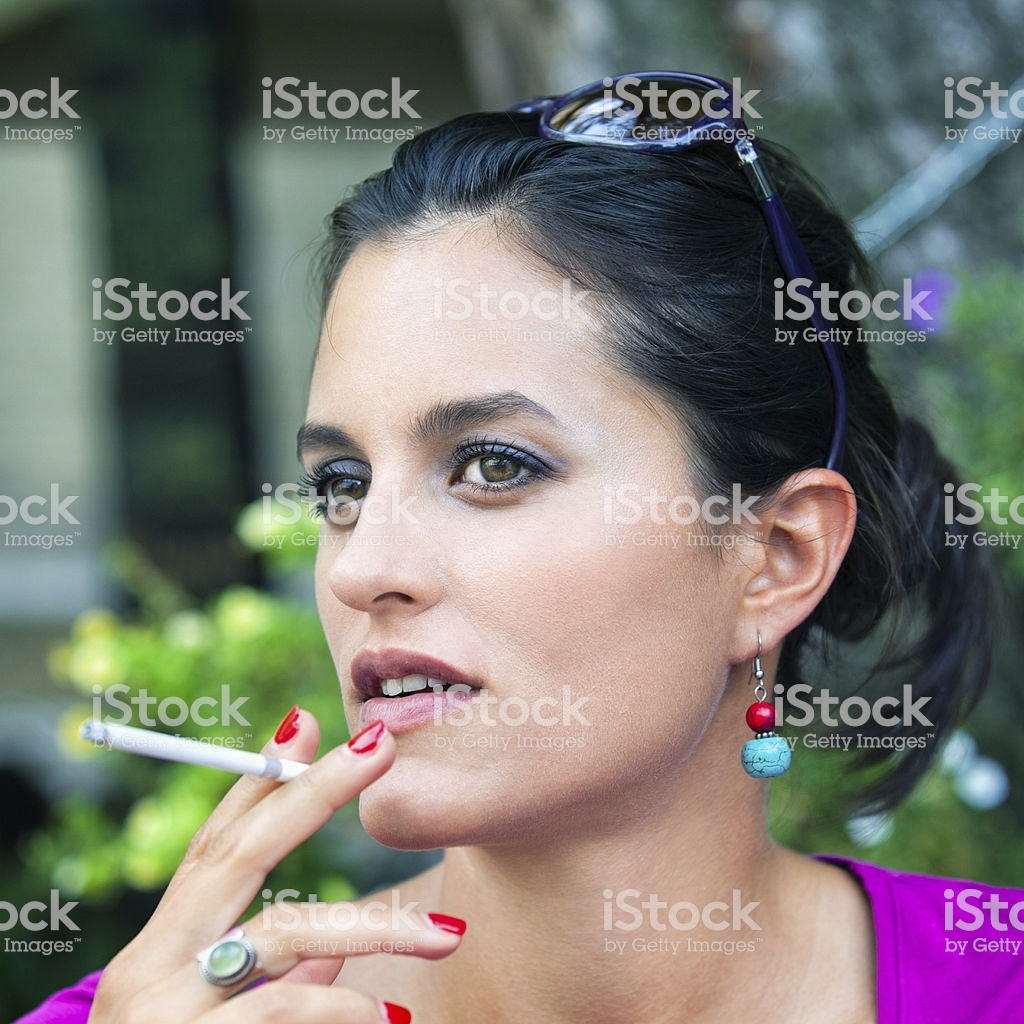sigaretta: (81, 714, 350, 795)
